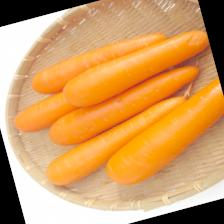carrot: (33, 92, 201, 190), (88, 76, 224, 190), (39, 61, 210, 150), (54, 26, 217, 112), (25, 28, 174, 98)
